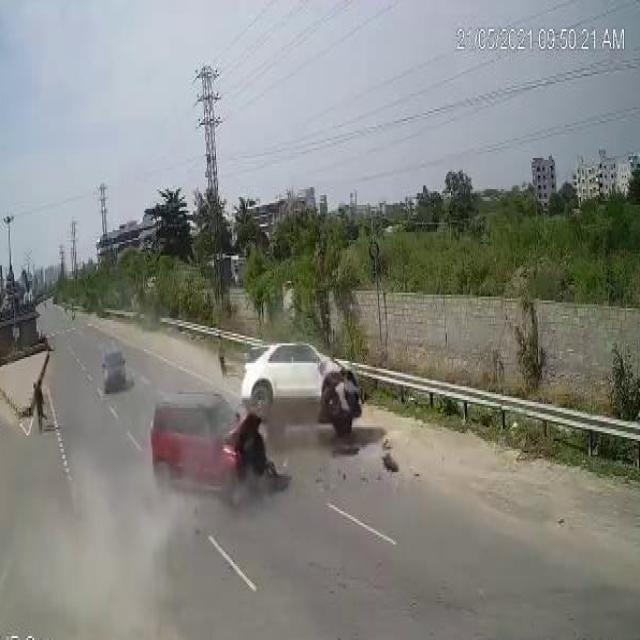accident: (142, 314, 401, 519)
